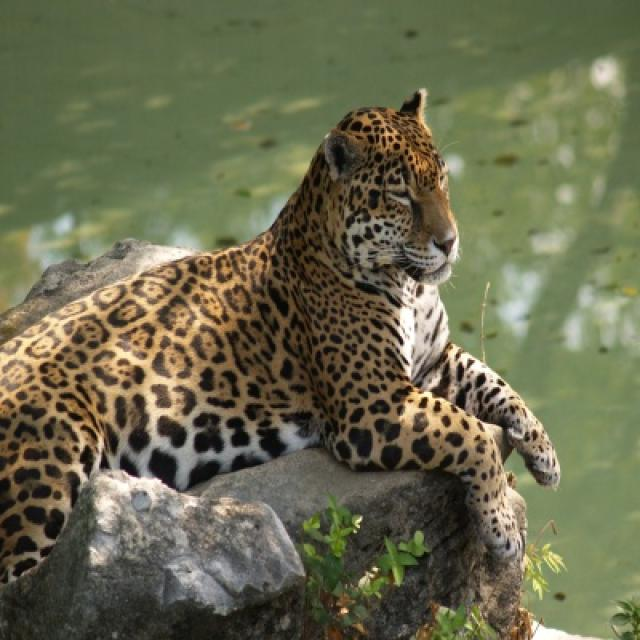Jaguar: (0, 90, 557, 638)
